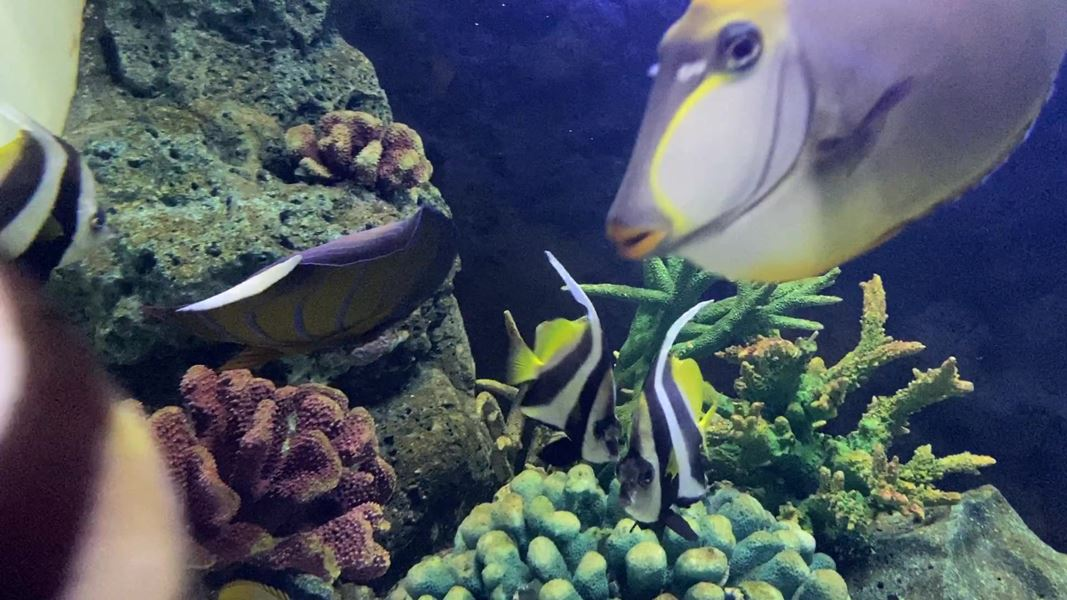Blue ring angelfish: (151, 178, 466, 395)
